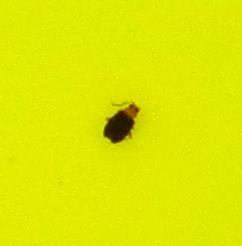Coleoptera: (100, 100, 142, 146)
